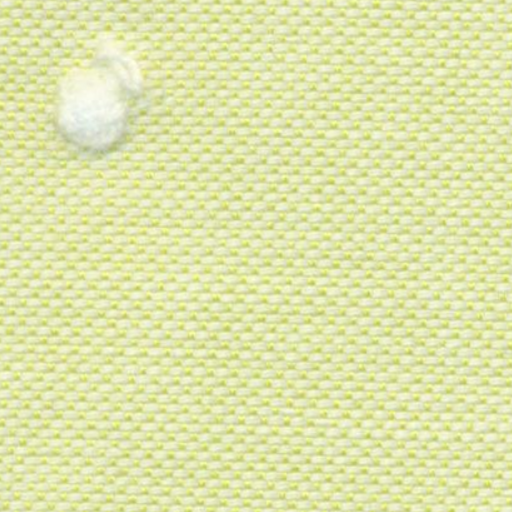MianQiu: (24, 22, 166, 166)
